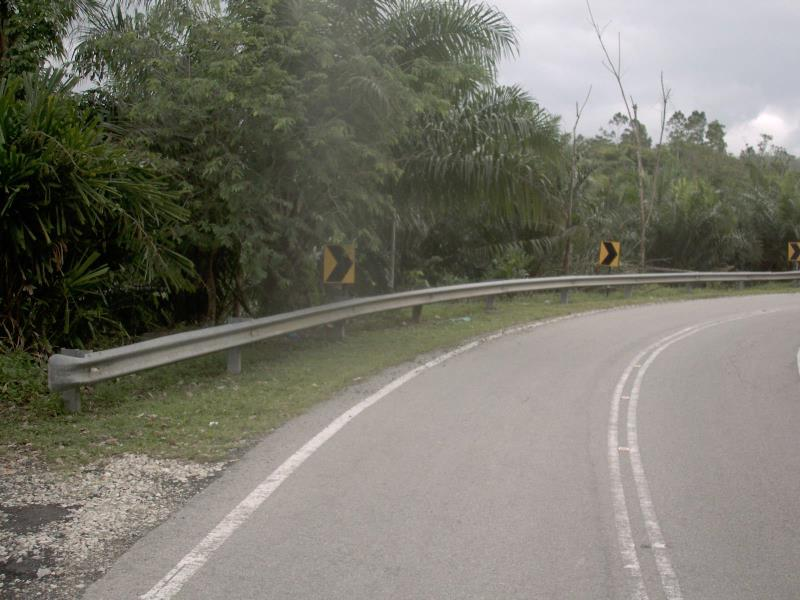traffic_sign: (313, 233, 363, 293)
